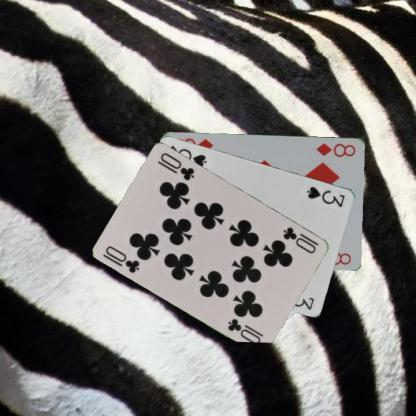10c: (101, 242, 142, 274), (281, 223, 318, 254)
3s: (304, 183, 347, 208)
8d: (314, 140, 357, 158)
